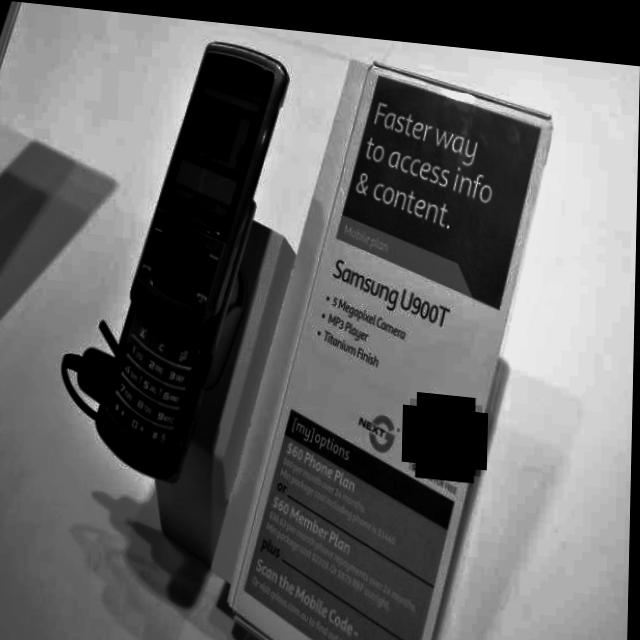qr_code: (411, 389, 484, 466)
